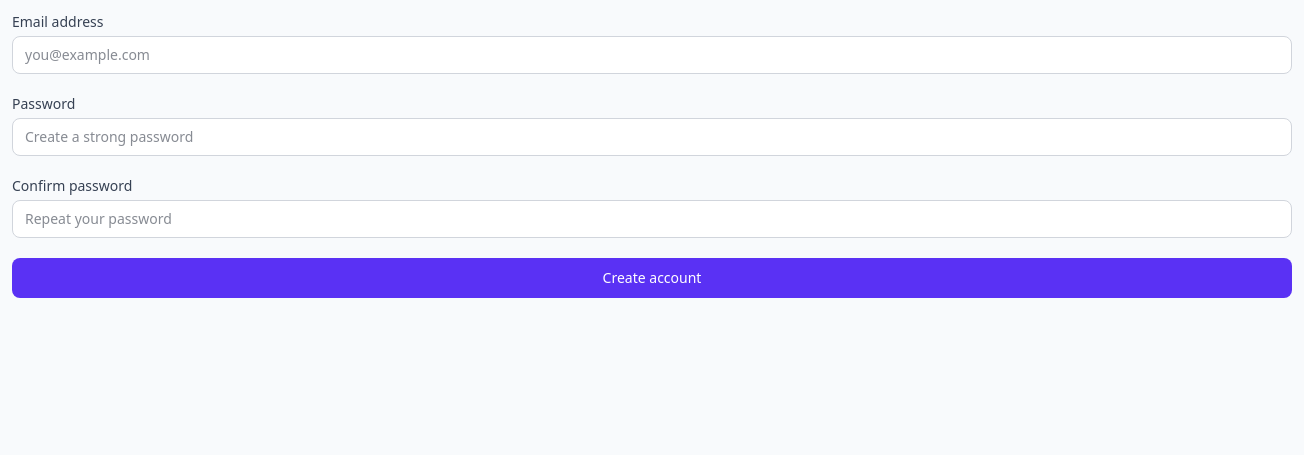
Test: RegisterForm › shows password validation error on blur with weak password
Type "weak" into the password field labelled "Password" at coordinates (652, 137), box [12,118,1292,156]
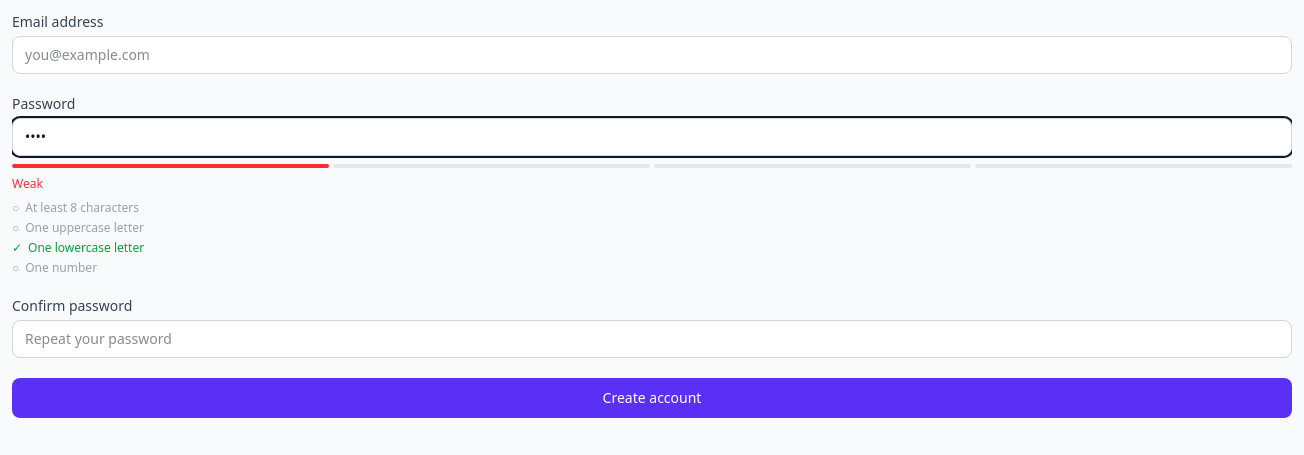
Leave the password field labelled "Password", box [12,118,1292,156]
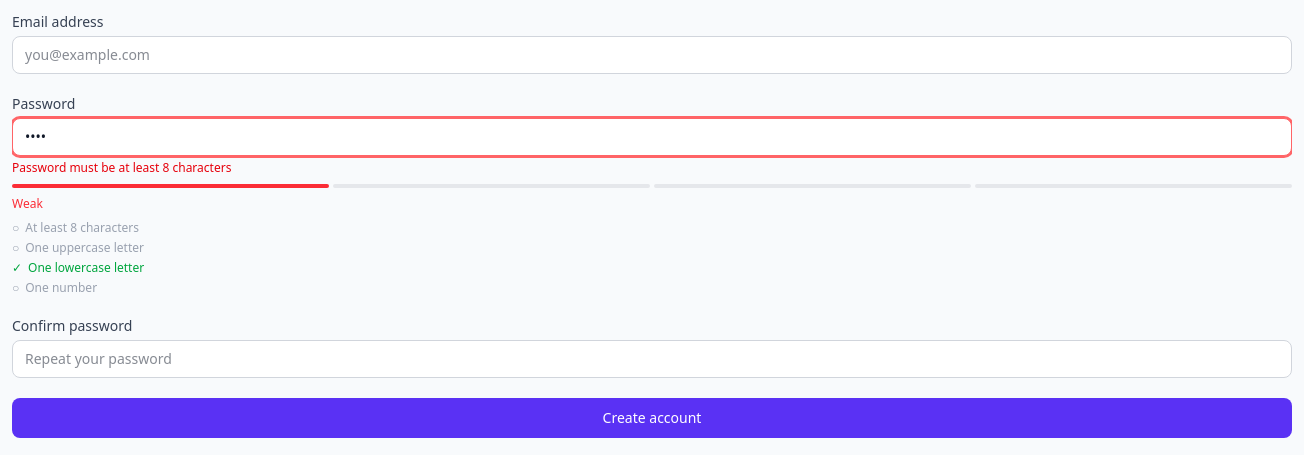
expect the text "Password must be at least 8 characters" is shown: met, box [12,159,231,176]
